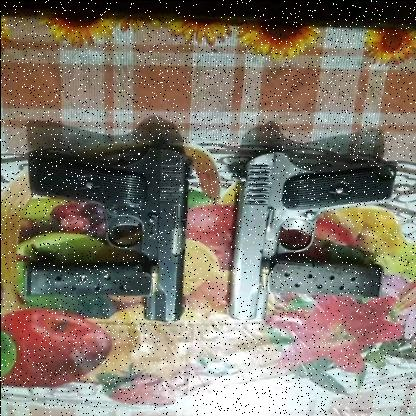rifle: (19, 136, 199, 324), (223, 148, 401, 322)
